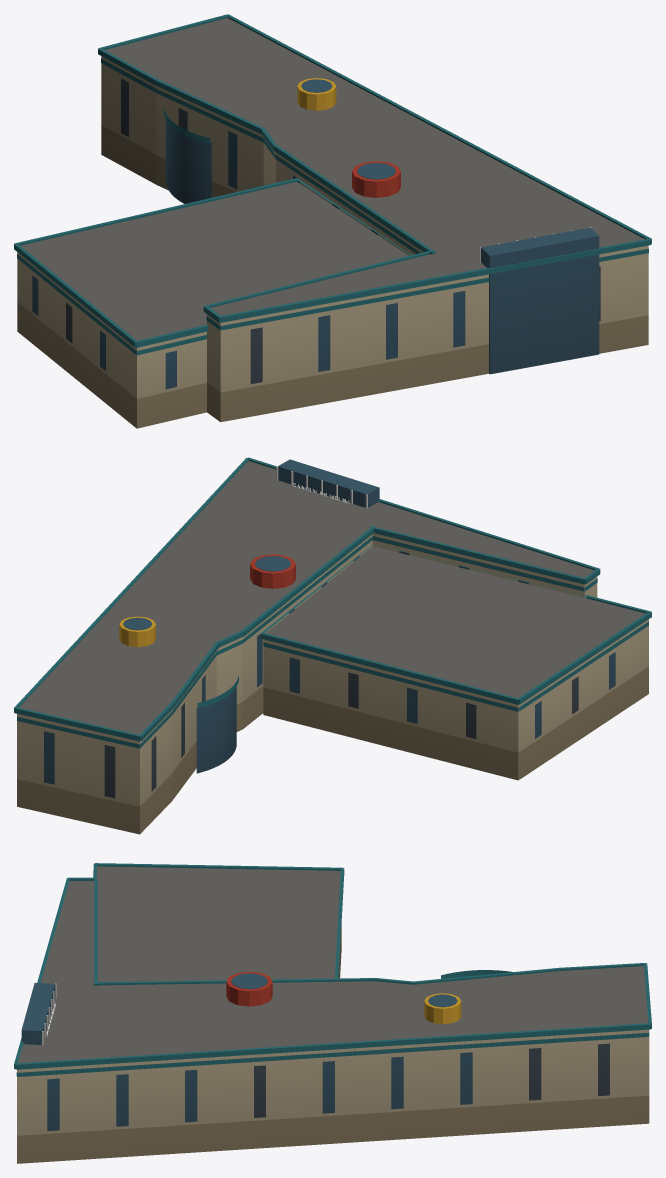
The model's file is museum.glb.
The picture shows the model from 3 angles, top to bottom: view 1: azimuth 30°, elevation 25°; view 2: azimuth 150°, elevation 25°; view 3: azimuth 270°, elevation 25°; orthographic projection. The views are drawn at different scales.
Visible parts, largest first — view 1: museum_lod0; view 2: museum_lod0; view 3: museum_lod0.
Part boxes in pixels (box(x1,y1,x2,y2)): museum_lod0: box(14, 14, 651, 428); museum_lod0: box(14, 457, 651, 834); museum_lod0: box(14, 863, 651, 1163).
Size of what is drawn, in the model's own units: 67.13 by 16.25 by 82.53.
